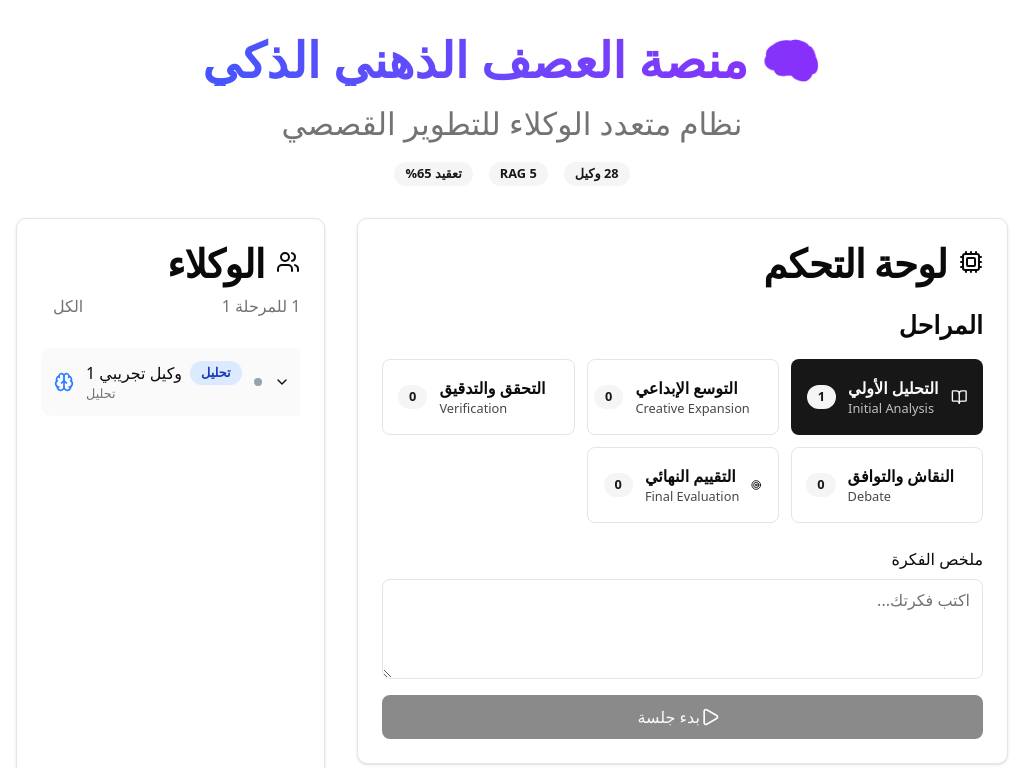
Test case: BrainStormContent › معالجة الأخطاء › يظهر رسالة خطأ عند فشل API
In the text box with placeholder "اكتب فكرتك...": (683, 629) [382,579,983,679], type "فكرة تجريبية"
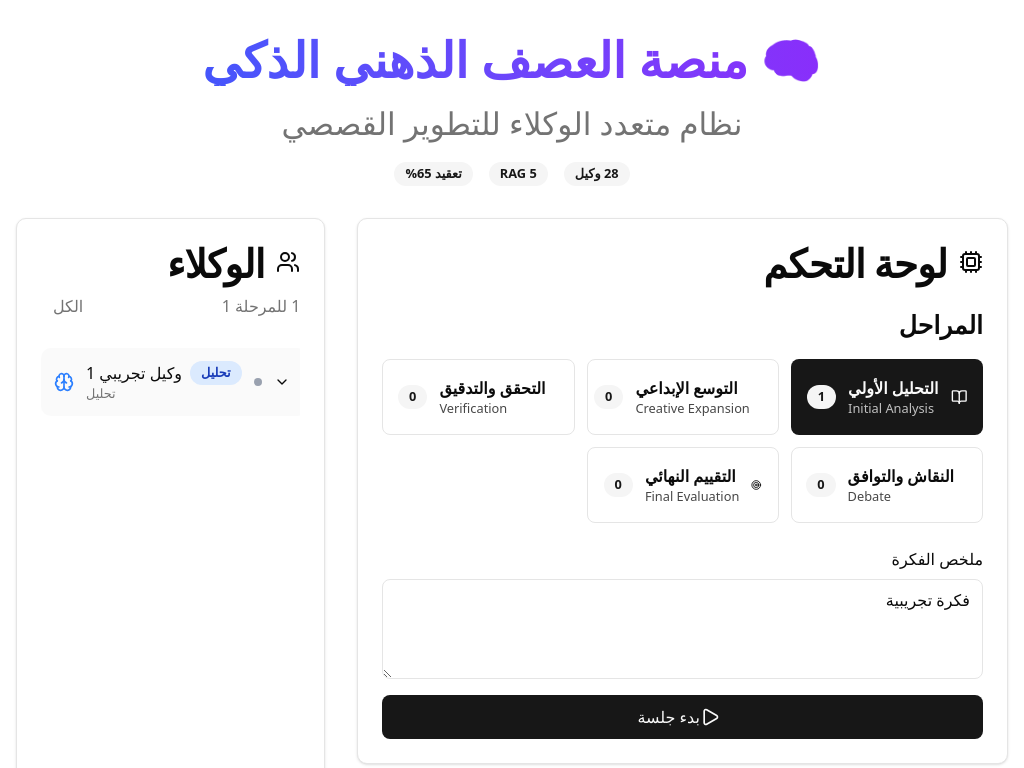
Click the button "بدء جلسة": (683, 717) [382,695,983,739]
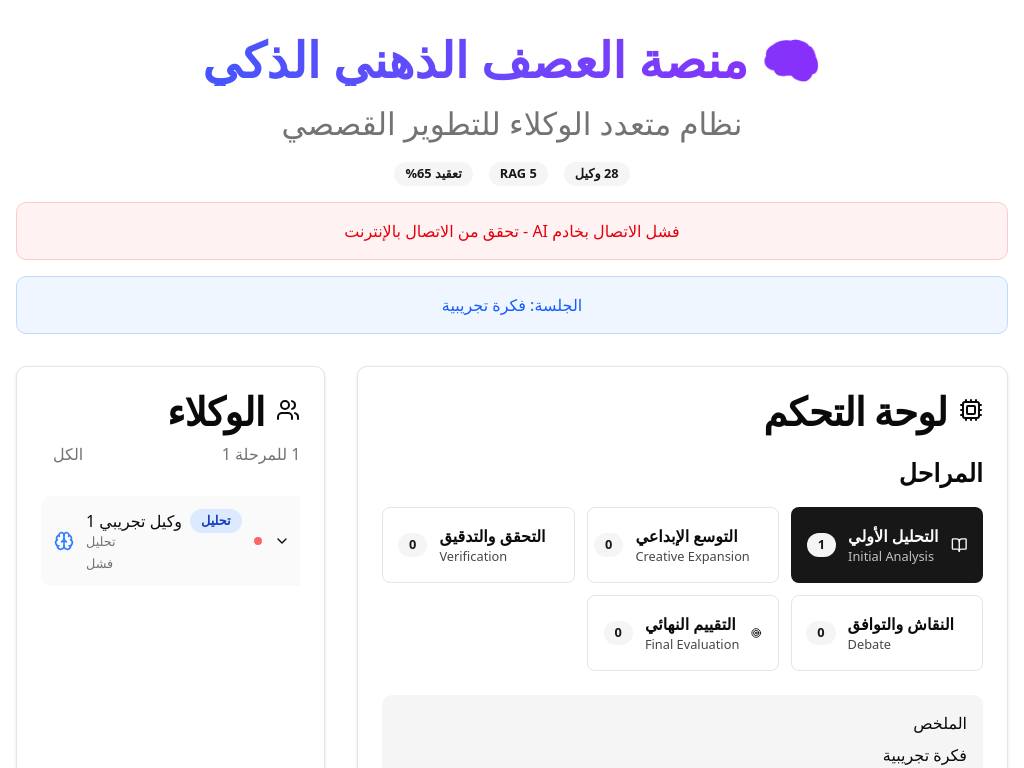
Expected: the text "فشل الاتصال بخادم AI - تحقق من الاتصال بالإنترنت" is shown, [344,220,680,242]
